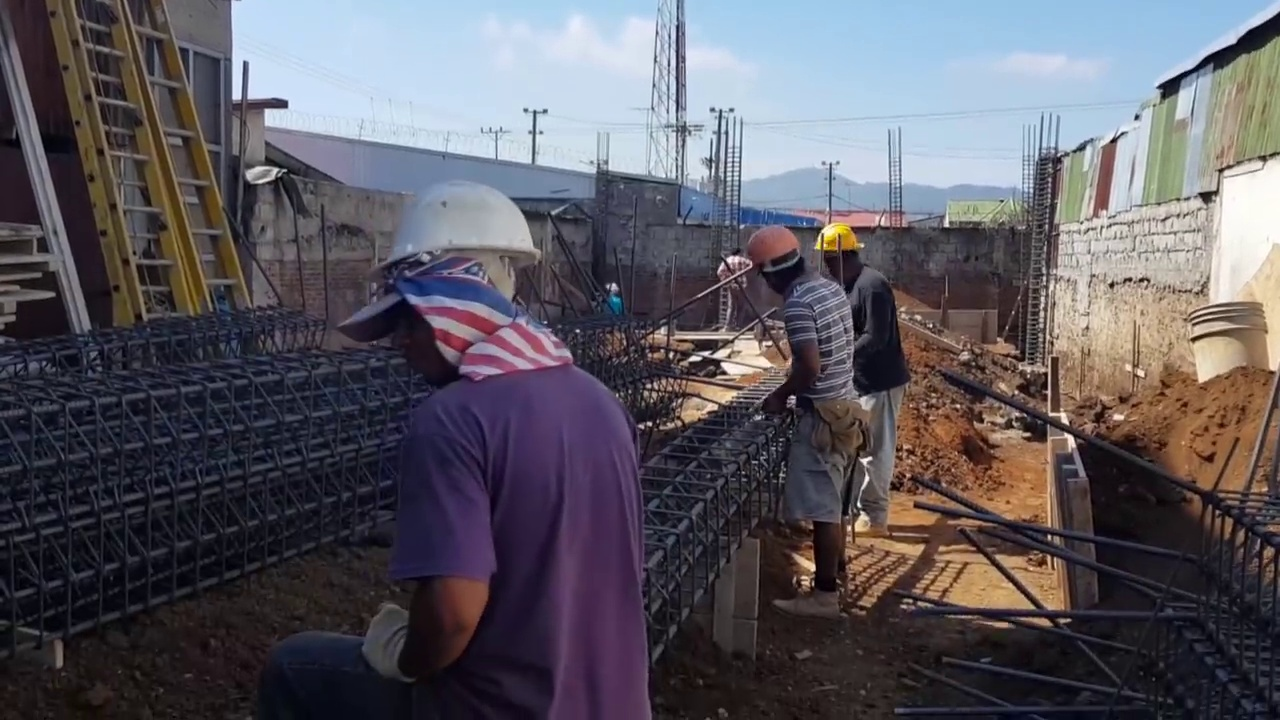helmet: (364, 189, 537, 290), (748, 225, 804, 272), (814, 220, 867, 255), (605, 283, 619, 294)
helmet-off: (729, 245, 745, 259)
helmet-on: (366, 186, 535, 359), (748, 225, 804, 293), (815, 221, 866, 277), (604, 281, 620, 298)
person: (336, 190, 655, 720), (747, 225, 867, 613), (817, 220, 905, 530), (714, 245, 752, 334), (599, 281, 623, 317)
